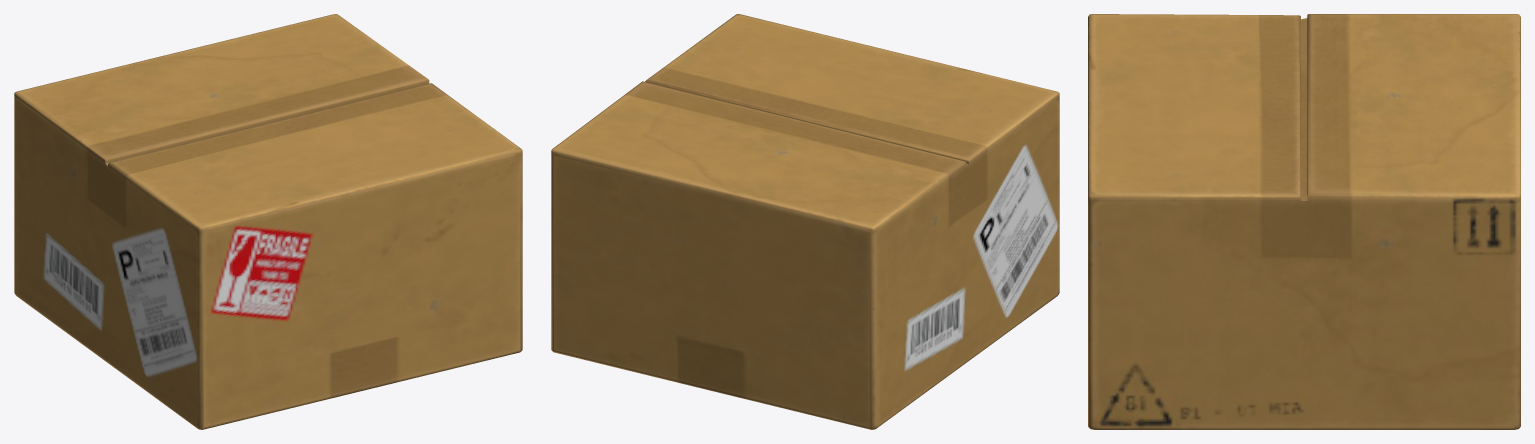
3 views of the same model, side by side, from view 1: azimuth 30°, elevation 25°; view 2: azimuth 150°, elevation 25°; view 3: azimuth 270°, elevation 25° (orthographic). The views are drawn at different scales.
Parts seen in each view (by area): view 1: Flat Cardboard Box Closed.008; view 2: Flat Cardboard Box Closed.008; view 3: Flat Cardboard Box Closed.008.
Part boxes in pixels (x1=…): Flat Cardboard Box Closed.008: x1=14, y1=14, x2=522, y2=429; Flat Cardboard Box Closed.008: x1=551, y1=14, x2=1059, y2=429; Flat Cardboard Box Closed.008: x1=1088, y1=14, x2=1520, y2=429.
Bounding box in the file's own units: 0.4266 × 0.2579 × 0.4266.
Materials: 1 (1 with a texture image).
